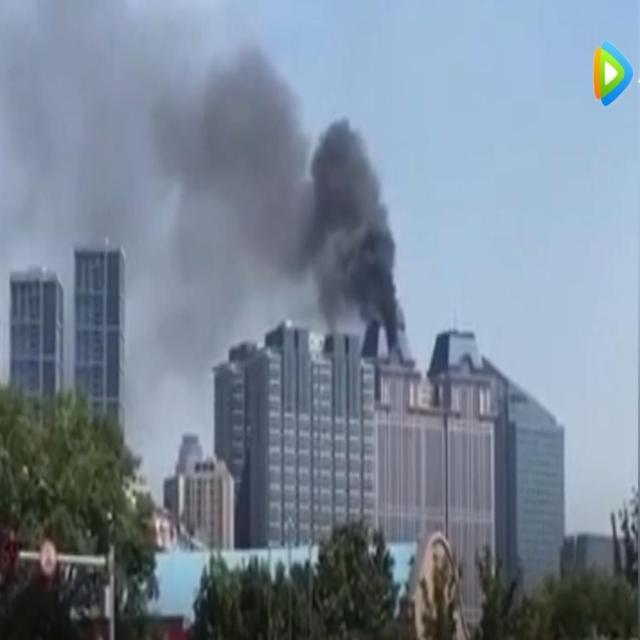Smoke: (0, 0, 313, 345), (310, 113, 422, 354)
